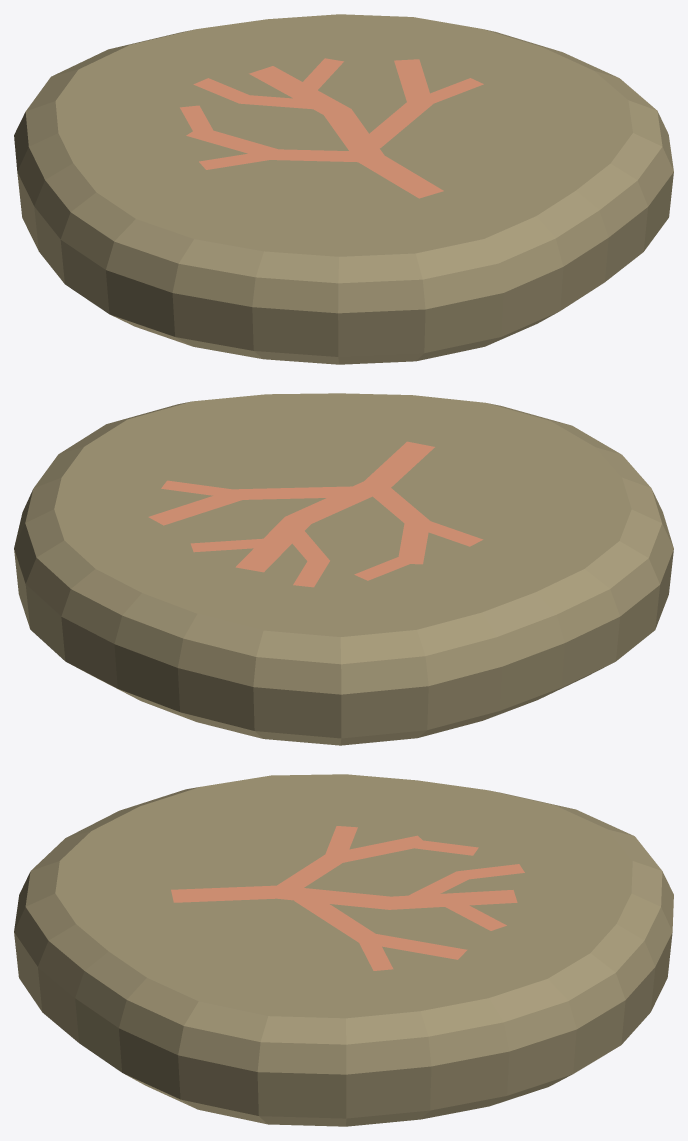
Rendered from steppingStoneC.glb.
The picture shows the model from 3 angles, top to bottom: view 1: azimuth 30°, elevation 25°; view 2: azimuth 150°, elevation 25°; view 3: azimuth 270°, elevation 25°; orthographic projection.
Visible parts, largest first — view 1: steppingStoneC; view 2: steppingStoneC; view 3: steppingStoneC.
Part boxes in pixels (box(x1,y1,x2,y2)): steppingStoneC: box(14, 14, 673, 364); steppingStoneC: box(14, 393, 673, 745); steppingStoneC: box(14, 774, 673, 1126).
Size of the model in its own units: 1 by 0.18 by 1.
Materials: 1 (1 with a texture image).
